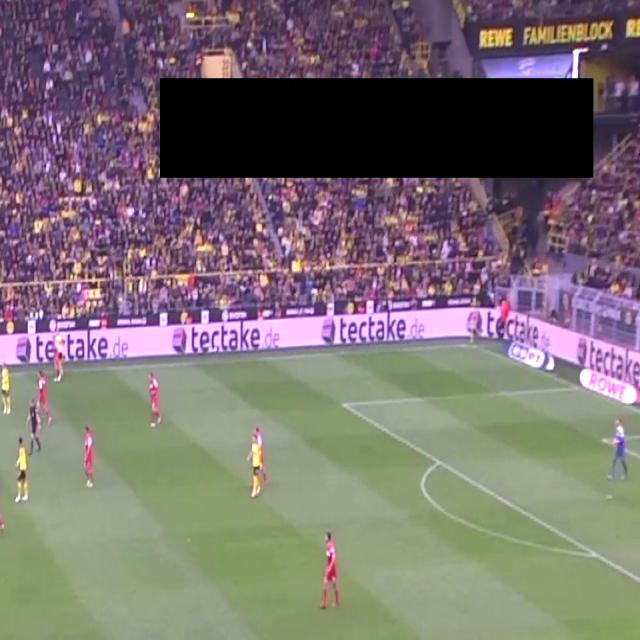goalkeeper: (608, 408, 636, 491)
referee: (25, 391, 44, 463)
soccer-player: (313, 520, 343, 619), (36, 354, 56, 432), (80, 418, 99, 495), (12, 436, 30, 512), (247, 430, 263, 507), (146, 367, 163, 435), (0, 357, 13, 418), (0, 462, 9, 545), (53, 328, 66, 385)
